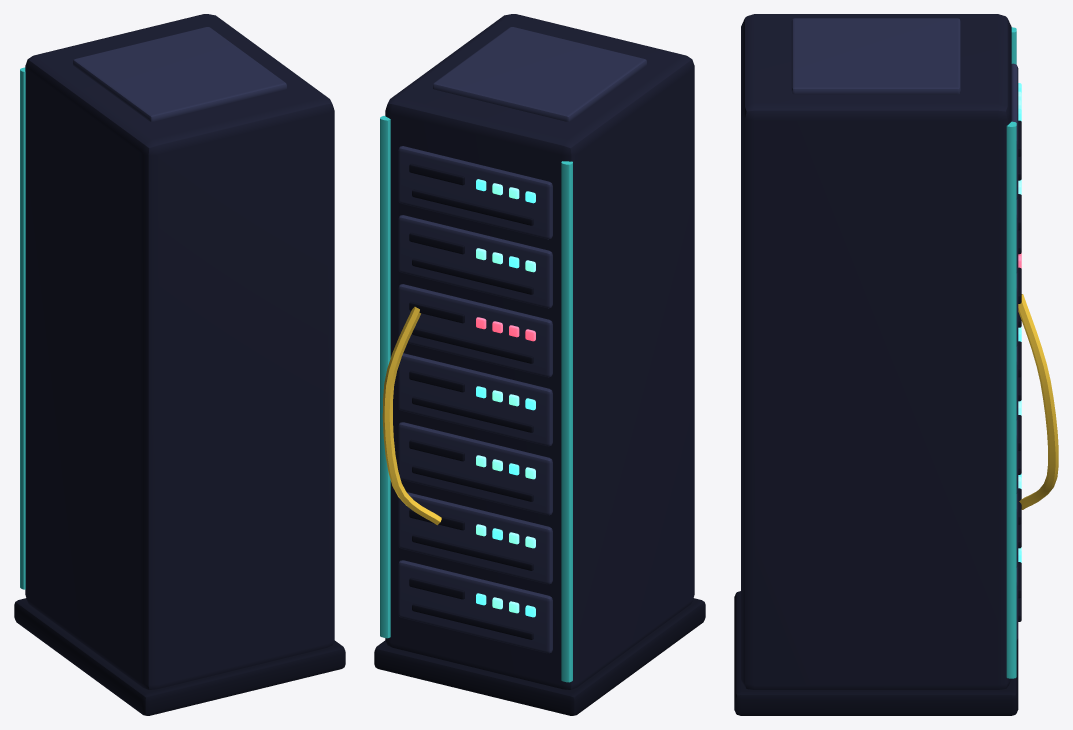
File: server_rack.glb
3 renders of one model, left to right at view 1: azimuth 30°, elevation 25°; view 2: azimuth 150°, elevation 25°; view 3: azimuth 270°, elevation 25°, orthographic. The views are drawn at different scales.
Visible parts, largest first — view 1: Body; view 2: Body; view 3: Body.
Part boxes in pixels (bbox=[...]): Body: bbox=[14, 14, 345, 715]; Body: bbox=[374, 14, 705, 715]; Body: bbox=[734, 14, 1058, 715].
Bounding box in the file's own units: 0.74 × 2 × 0.9596.
